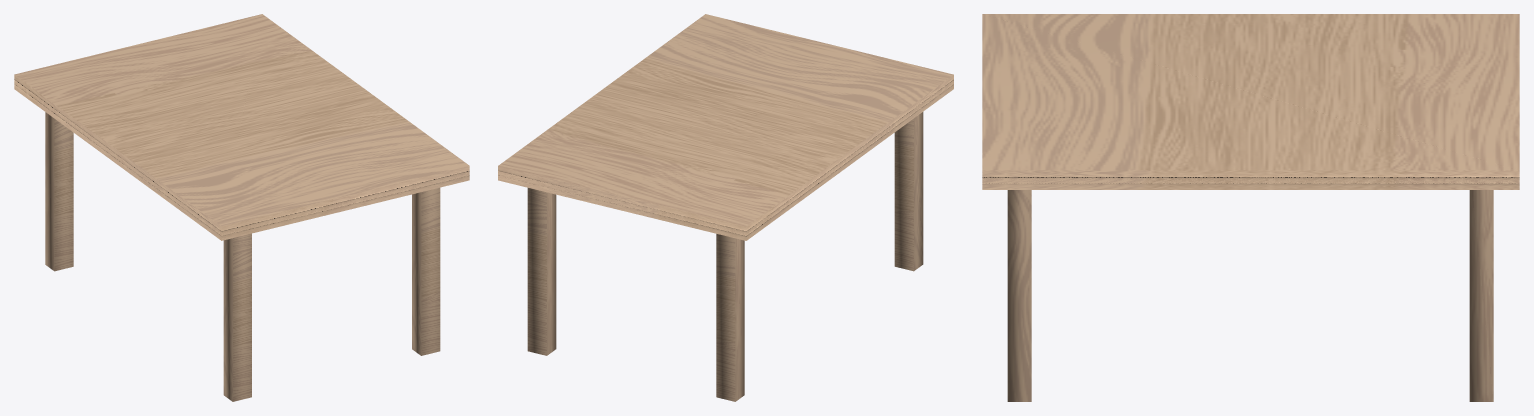
3 views of the same model, side by side, from view 1: azimuth 30°, elevation 25°; view 2: azimuth 150°, elevation 25°; view 3: azimuth 270°, elevation 25° (orthographic). The views are drawn at different scales.
Parts seen in each view (by area): view 1: board, leg, bottom; view 2: board, leg, bottom; view 3: board, leg, bottom.
Part boxes in pixels (x1,y1,x2,y2): board: (14, 14, 469, 235); leg: (45, 112, 440, 401); bottom: (14, 81, 469, 240); board: (498, 14, 953, 235); leg: (527, 112, 923, 401); bottom: (498, 79, 953, 240); board: (982, 14, 1519, 183); leg: (1007, 190, 1493, 401); bottom: (982, 177, 1519, 189).
Bounding box in the file's own units: 2 × 1.45 × 2.89.
1 material, 1 textured.
